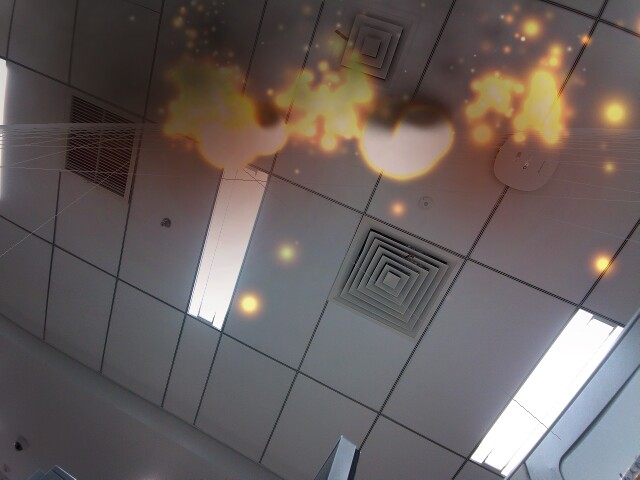fire: (361, 95, 444, 181), (193, 112, 266, 173), (393, 103, 456, 159), (245, 104, 290, 156)
